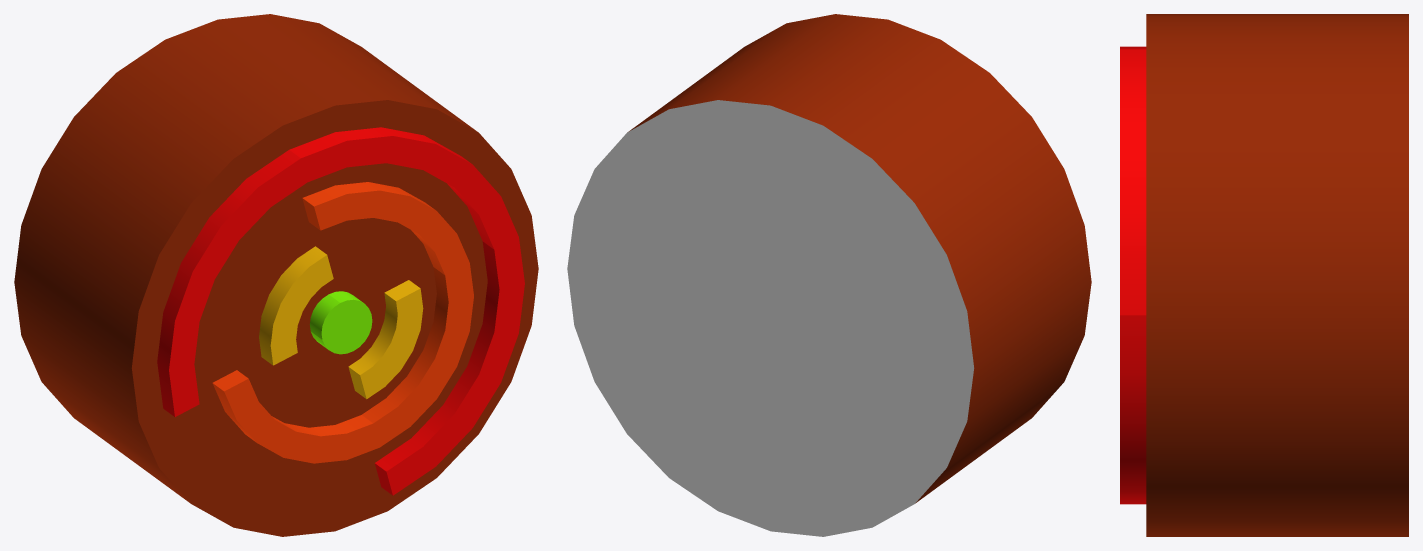
File: centerCircle.fbx
3 views of the same model, side by side, from view 1: azimuth 30°, elevation 25°; view 2: azimuth 150°, elevation 25°; view 3: azimuth 270°, elevation 25° (orthographic). The views are drawn at different scales.
Visible parts, largest first — view 1: Model; view 2: Model; view 3: Model.
Boxes of the visible parts, left/top/right/bottom form: Model: left=14, top=14, right=538, bottom=536; Model: left=567, top=14, right=1091, bottom=536; Model: left=1120, top=14, right=1408, bottom=536.
Size of the model in its own units: 4 by 4 by 2.2.
